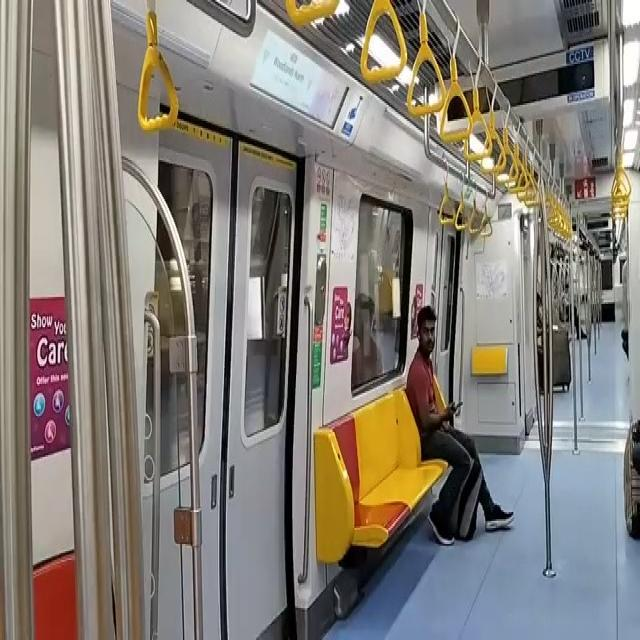bus-door: (152, 61, 301, 640)
